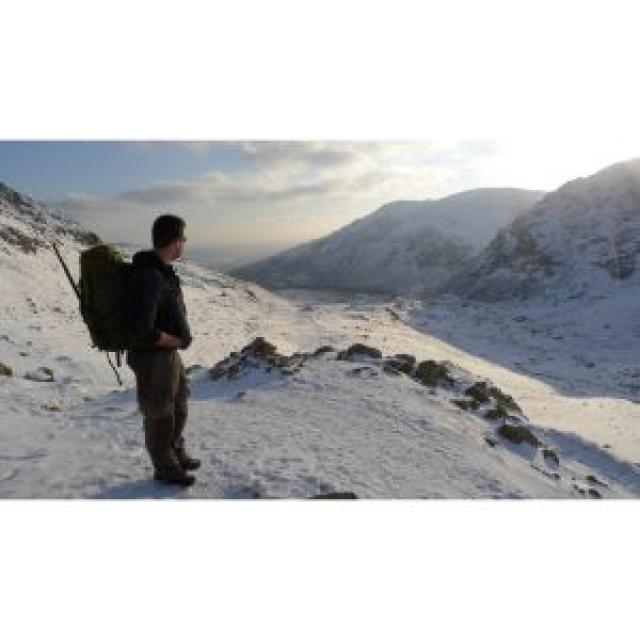nonfall: (111, 204, 231, 492)
